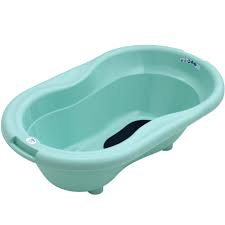bathub: (2, 37, 225, 203)
